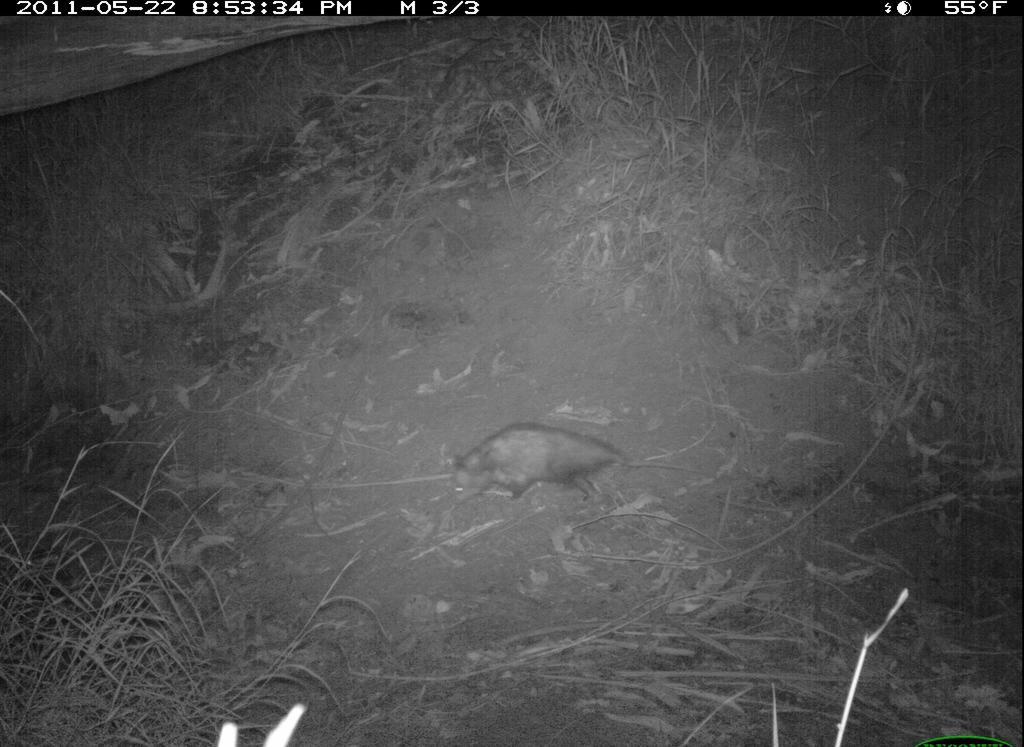opossum: (449, 401, 696, 528)
